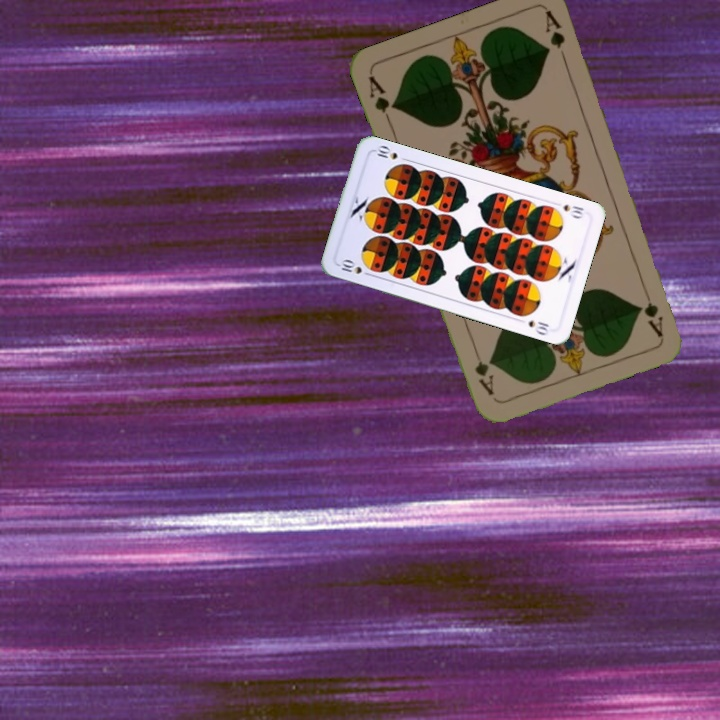GA: (364, 71, 399, 128), (640, 281, 666, 339)
S10: (337, 256, 374, 279), (559, 200, 587, 221)
